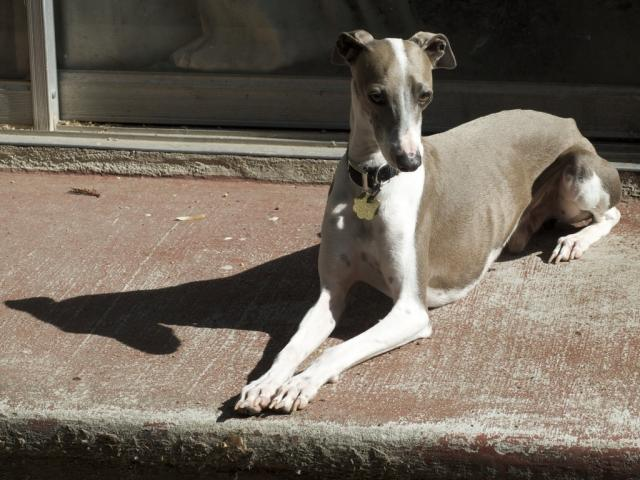Dog: (234, 32, 624, 418)
